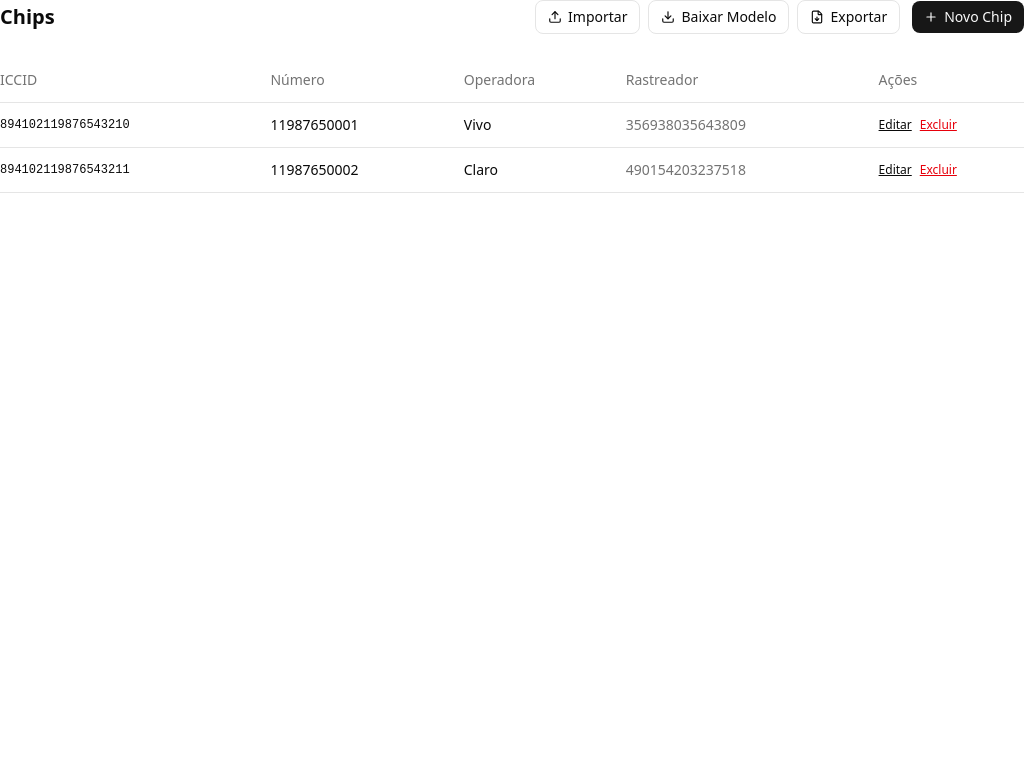
Test case: ChipsPage › clique em Cancelar no modal fecha o modal
Click the button "Exportar" at point(849, 17), box [798,0,900,34]
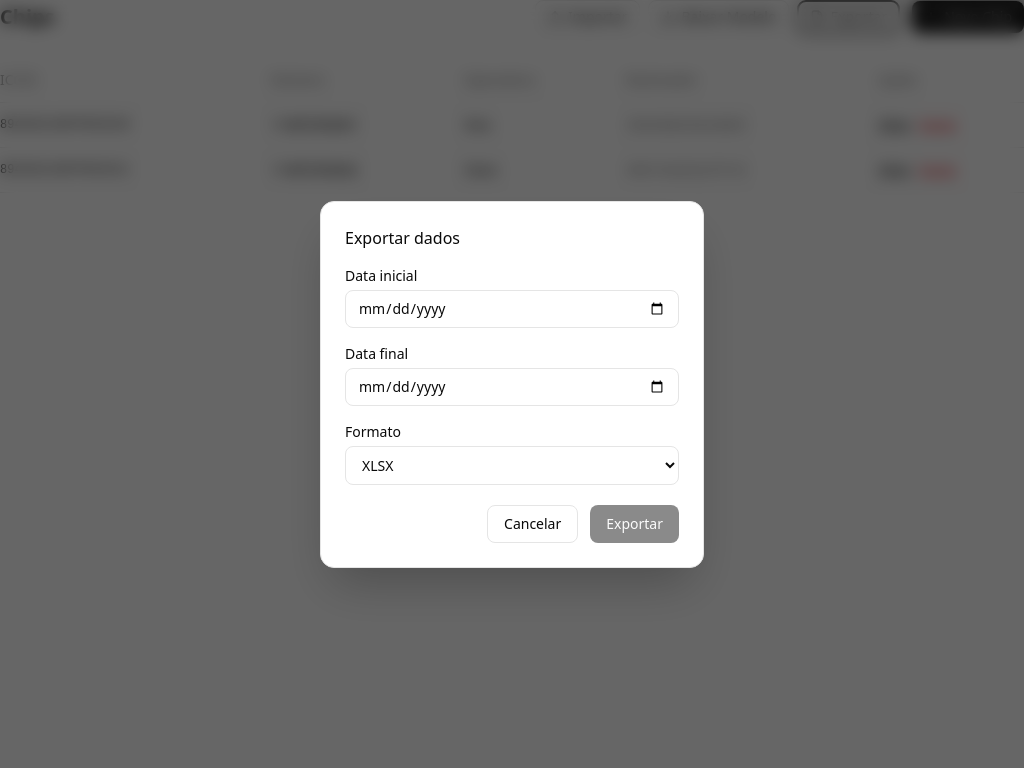
Click the button "Cancelar" at point(533, 524), box [487,504,578,542]
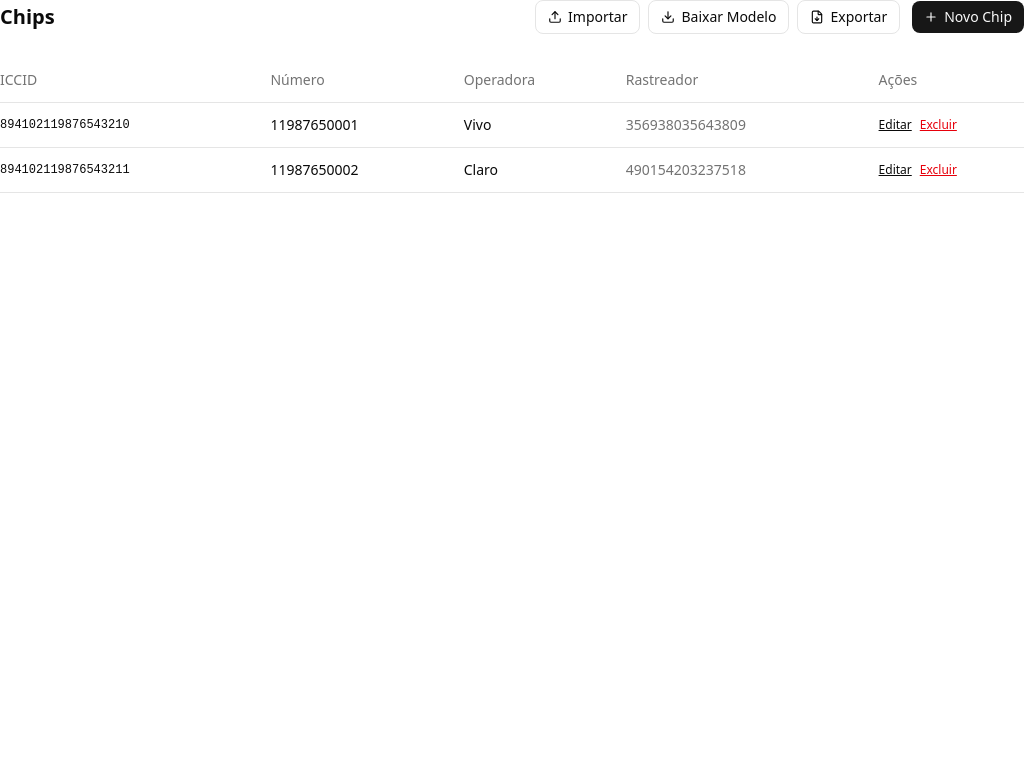
Expected: the dialog is gone
